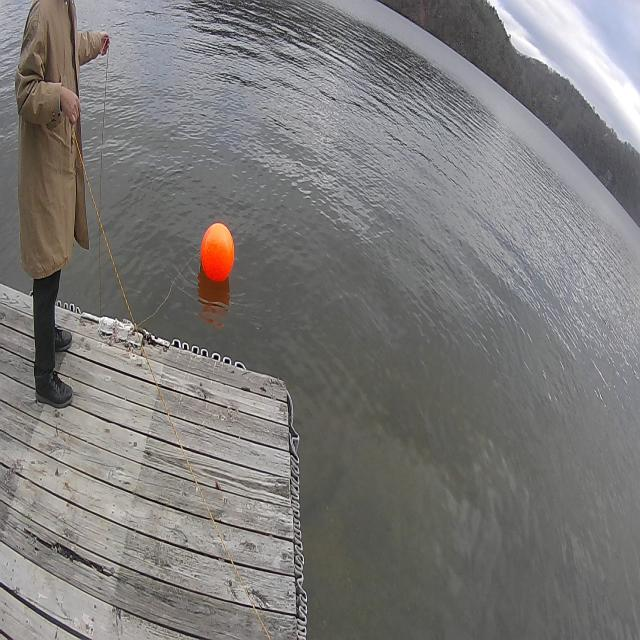Buoy: (198, 222, 236, 288)
